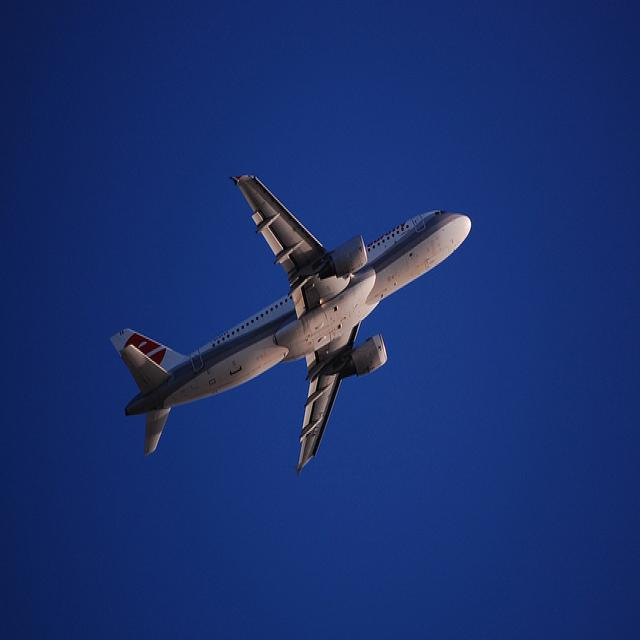airplane: (108, 170, 473, 480)
